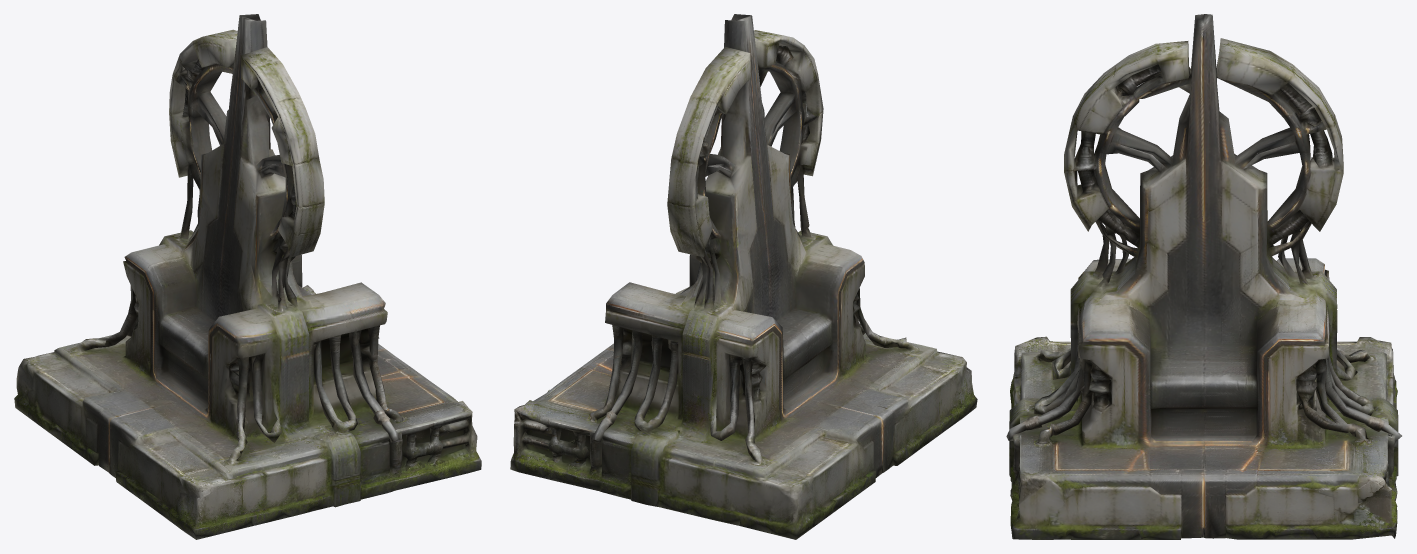
File: env_fu_throne.glb
The picture shows the model from 3 angles, left to right: view 1: azimuth 30°, elevation 25°; view 2: azimuth 150°, elevation 25°; view 3: azimuth 270°, elevation 25°; orthographic projection. The views are drawn at different scales.
Parts seen in each view (by area): view 1: tripo_node_0094fb87-7c5d-441b-b987-32cc3334bfe9; view 2: tripo_node_0094fb87-7c5d-441b-b987-32cc3334bfe9; view 3: tripo_node_0094fb87-7c5d-441b-b987-32cc3334bfe9.
Boxes of the visible parts, x1,y1,x2,y2 form: tripo_node_0094fb87-7c5d-441b-b987-32cc3334bfe9: (14,14,481,539); tripo_node_0094fb87-7c5d-441b-b987-32cc3334bfe9: (510,14,977,539); tripo_node_0094fb87-7c5d-441b-b987-32cc3334bfe9: (1006,14,1401,539).
Size of the model in its own units: 0.7268 by 1 by 0.799.
Materials: 1 (1 with a texture image).
